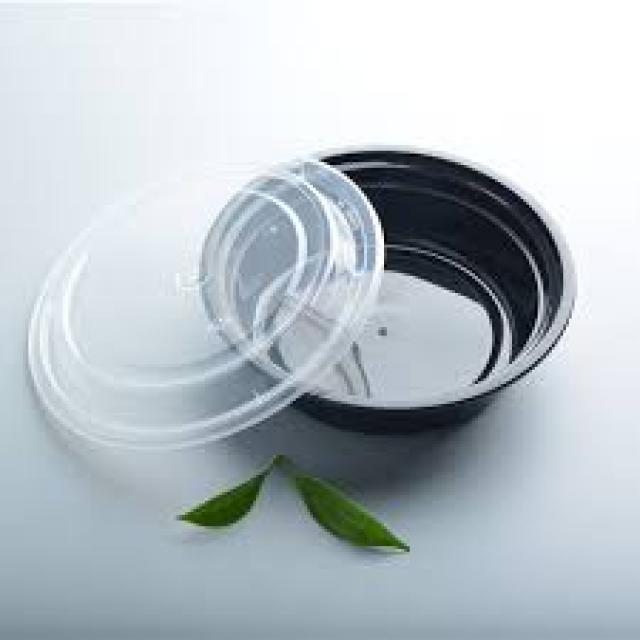disposable: (200, 108, 567, 443)
